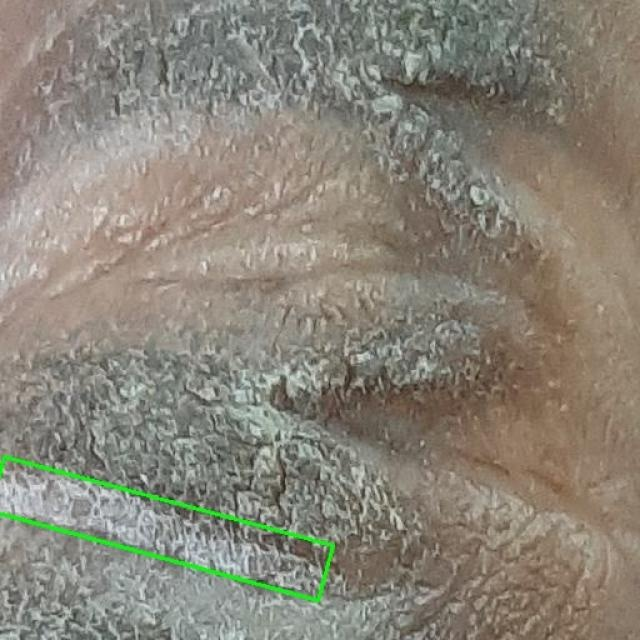Contact Dermatitis: (0, 454, 333, 600)
